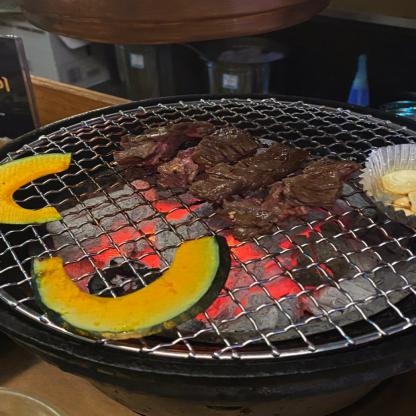Carne: (248, 156, 362, 220), (166, 128, 257, 176), (214, 146, 296, 191), (116, 125, 202, 166)
